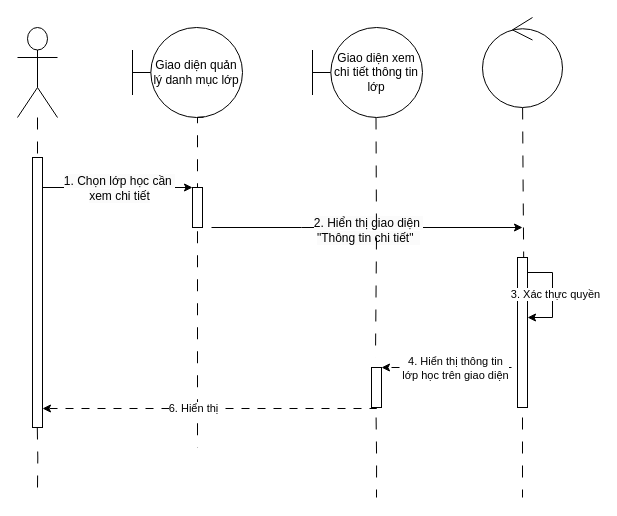
This 617x516 diagram has some shape labels left out. The centre of each missing label's shape, as x and y in pixels:
"Admin" belongs at point 37,72.
"Dữ liệu controller" belongs at point 522,62.
